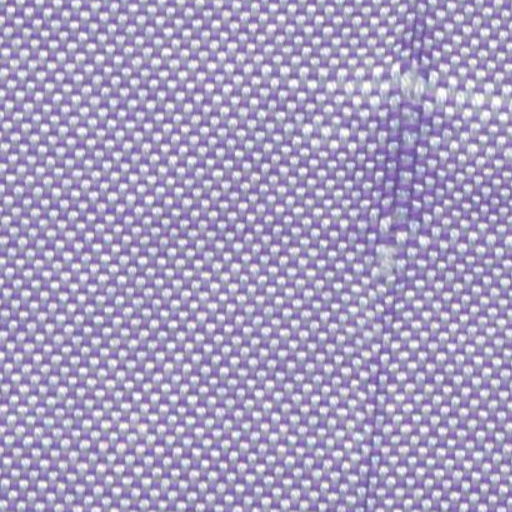DaiSha: (356, 26, 457, 322)
